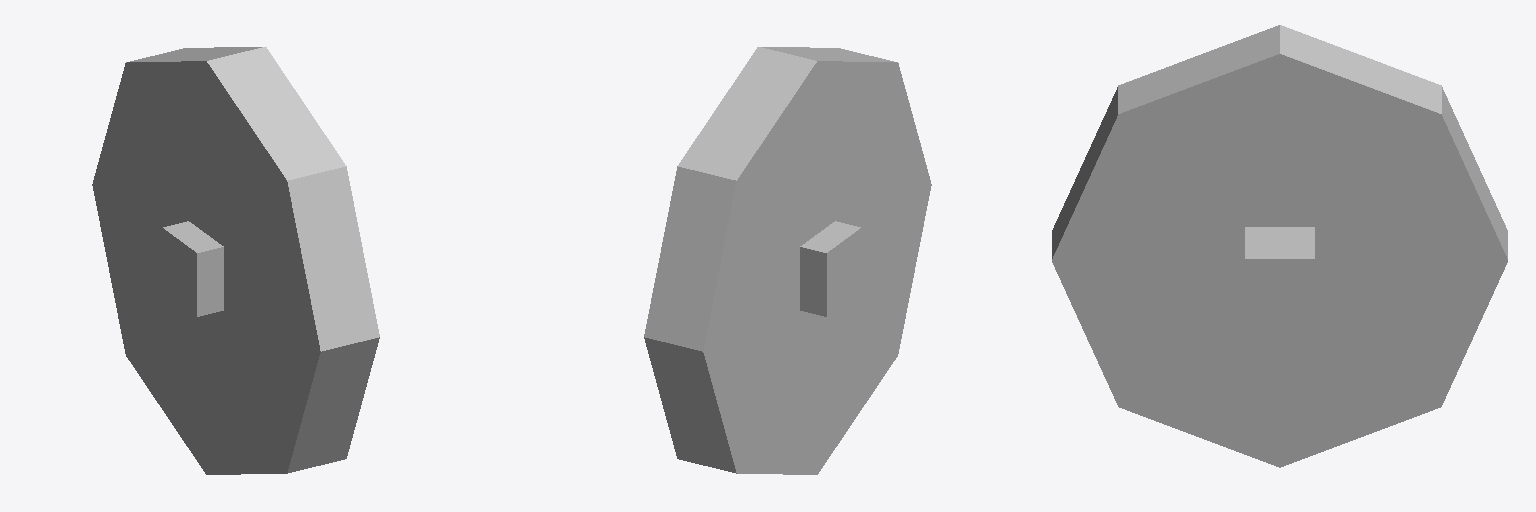
File: MonsterTire.obj
The picture shows the model from 3 angles: view 1: azimuth 30°, elevation 25°; view 2: azimuth 150°, elevation 25°; view 3: azimuth 270°, elevation 25°; orthographic projection.
Parts seen in each view (by area): view 1: M_Tire_R; view 2: M_Tire_R; view 3: M_Tire_R.
Boxes of the visible parts, x1=… form: M_Tire_R: x1=92, y1=47, x2=379, y2=474; M_Tire_R: x1=644, y1=47, x2=931, y2=474; M_Tire_R: x1=1052, y1=25, x2=1507, y2=467.
Size of the model in its own units: 0.5 by 1.3 by 1.3.